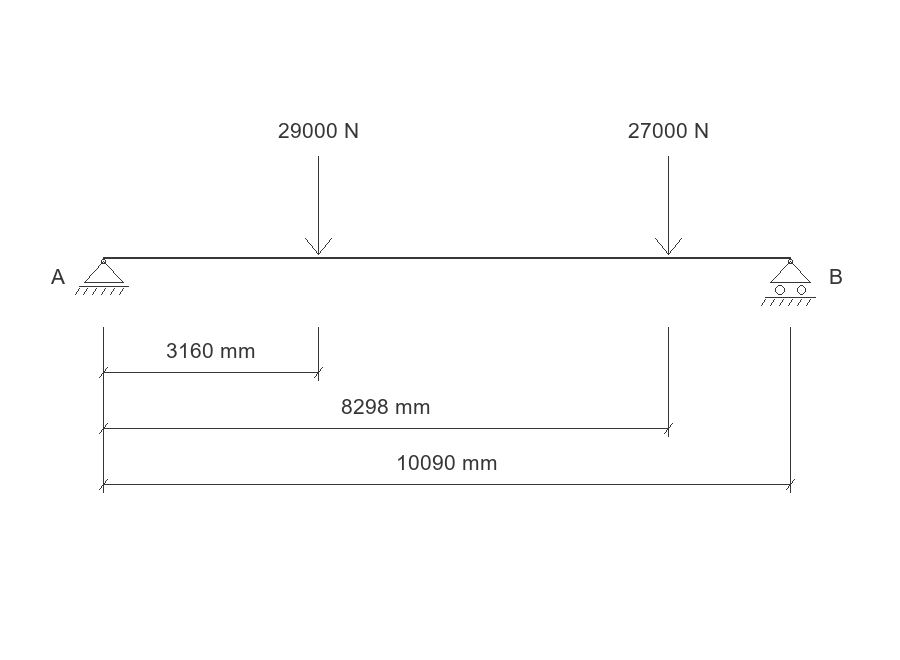pin_support: (75, 259, 129, 295)
point_load: (305, 156, 332, 255), (655, 156, 682, 255)
roller_support: (761, 259, 816, 306)
